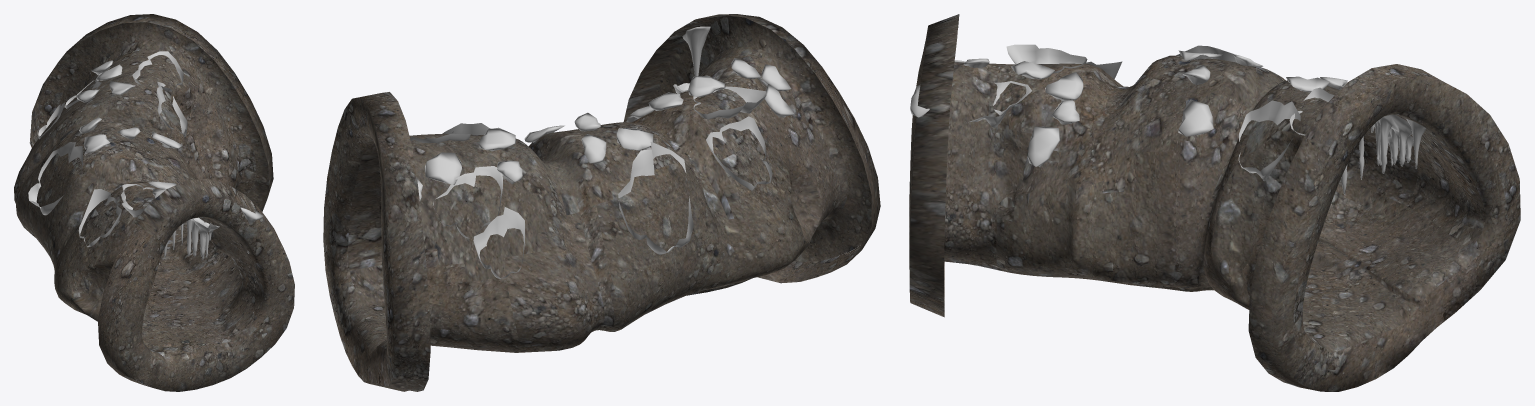
Rendered from cave_tunnel_turn_02_stalactites.dae.
3 views of the same model, side by side, from view 1: azimuth 30°, elevation 25°; view 2: azimuth 150°, elevation 25°; view 3: azimuth 270°, elevation 25° (orthographic). The views are drawn at different scales.
Parts seen in each view (by area): view 1: tunnel_turn_02, stalactites__6_; view 2: tunnel_turn_02, stalactites__6_; view 3: tunnel_turn_02, stalactites__6_.
Boxes of the visible parts, bbox=[...] form: tunnel_turn_02: bbox=[14, 14, 294, 391]; stalactites__6_: bbox=[28, 51, 263, 259]; tunnel_turn_02: bbox=[323, 14, 880, 391]; stalactites__6_: bbox=[410, 26, 793, 278]; tunnel_turn_02: bbox=[909, 14, 1520, 391]; stalactites__6_: bbox=[910, 44, 1425, 195].
Size of what is drawn, in the model's own units: 9.42 by 6.7 by 12.37.
